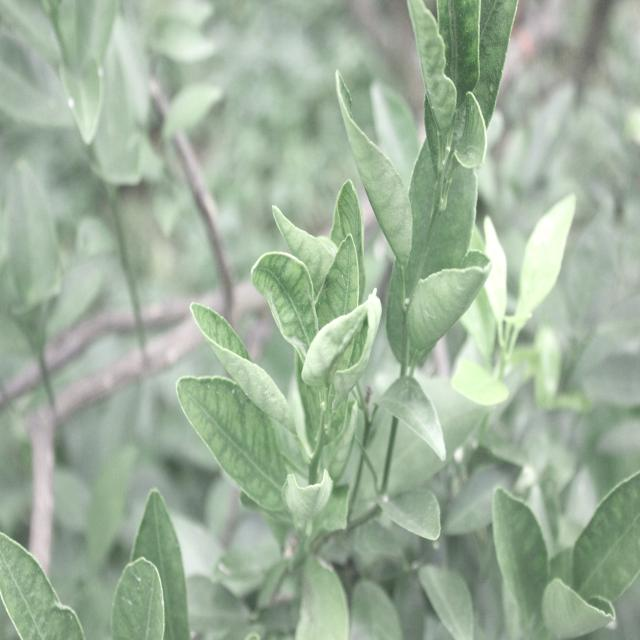greening: (186, 371, 284, 513), (401, 0, 459, 143), (462, 0, 522, 101), (260, 248, 314, 346), (322, 240, 359, 326)
